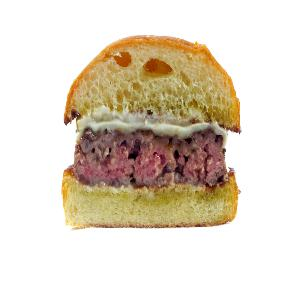cheeseburger_475cal: (40, 21, 258, 233)
